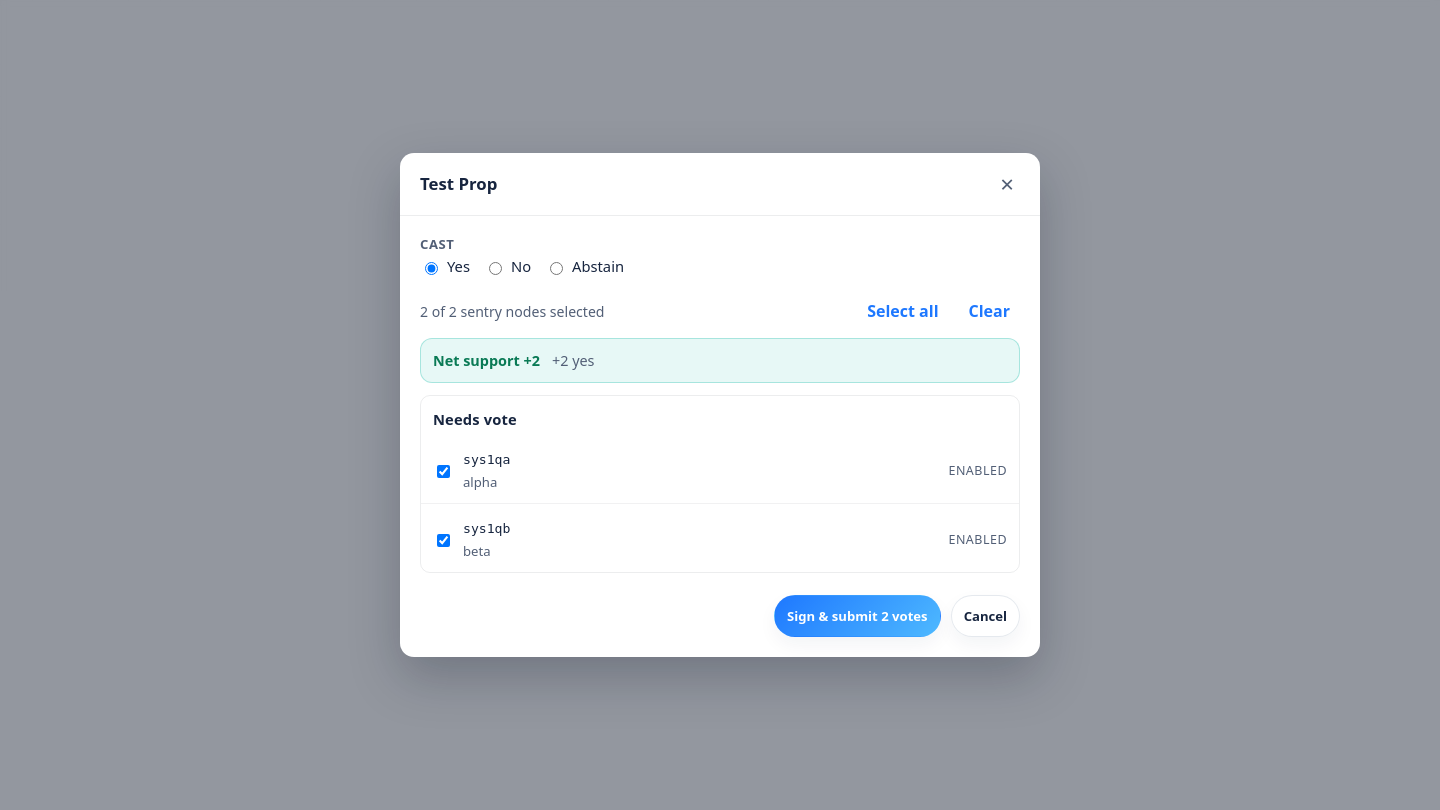
ProposalVoteModal — happy-path voting › Clear button disables the submit button
This screenshot has width=1440, height=810.
Expected: the element with test id "vote-modal-list" is shown, [420, 395, 1020, 573]
Click the button with test id "vote-modal-select-none": [989, 312] box [958, 294, 1020, 330]
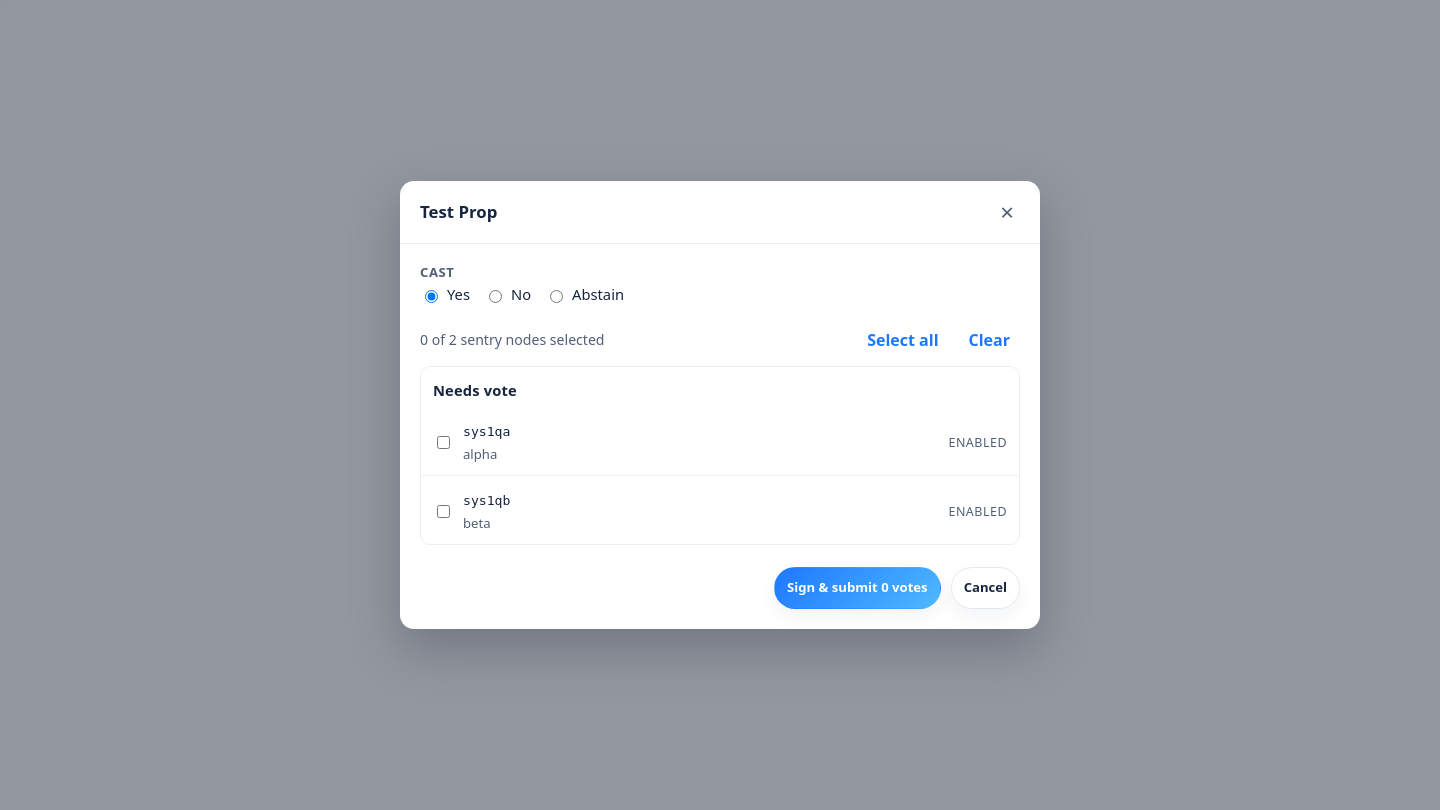
Now the button with test id "vote-modal-submit" is disabled, box [774, 567, 941, 609]
